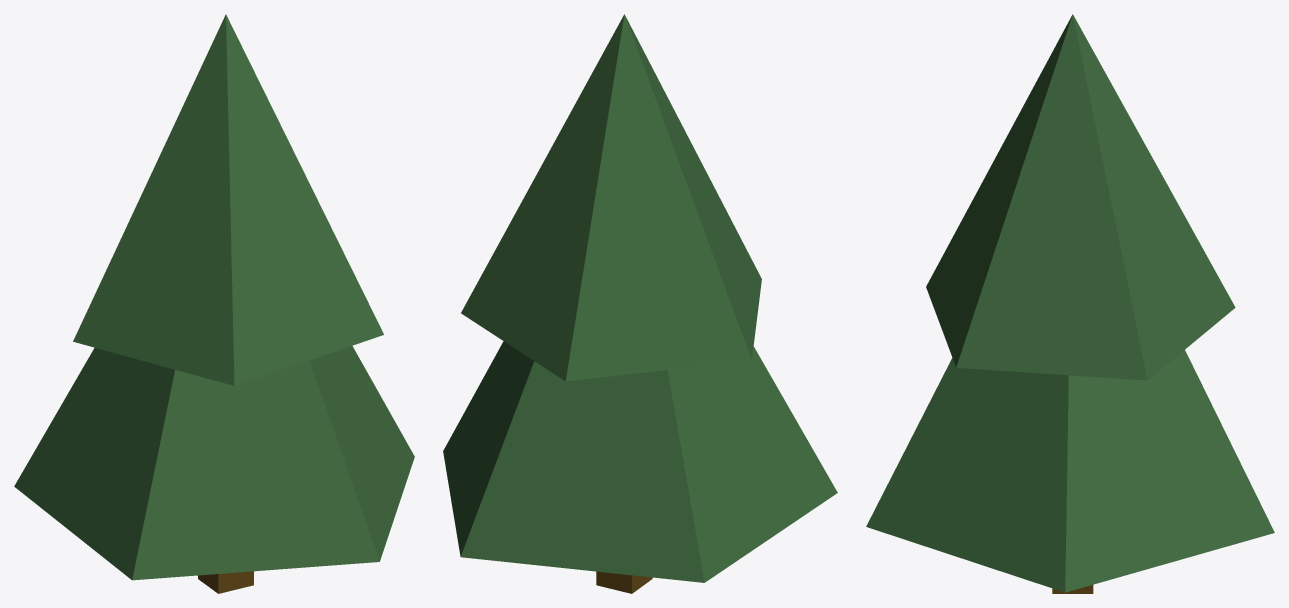
File: tree_02.fbx
3 views of the same model, side by side, from view 1: azimuth 30°, elevation 25°; view 2: azimuth 150°, elevation 25°; view 3: azimuth 270°, elevation 25° (orthographic).
Visible parts, largest first — view 1: Cube.001; view 2: Cube.001; view 3: Cube.001.
Part boxes in pixels (x1,y1,x2,y2): Cube.001: [14, 14, 414, 593]; Cube.001: [443, 14, 837, 593]; Cube.001: [866, 14, 1274, 593].
Size of the model in its own units: 476 by 764 by 495.
